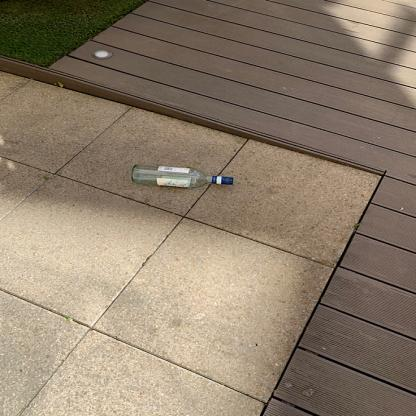trash: (130, 162, 237, 190)
